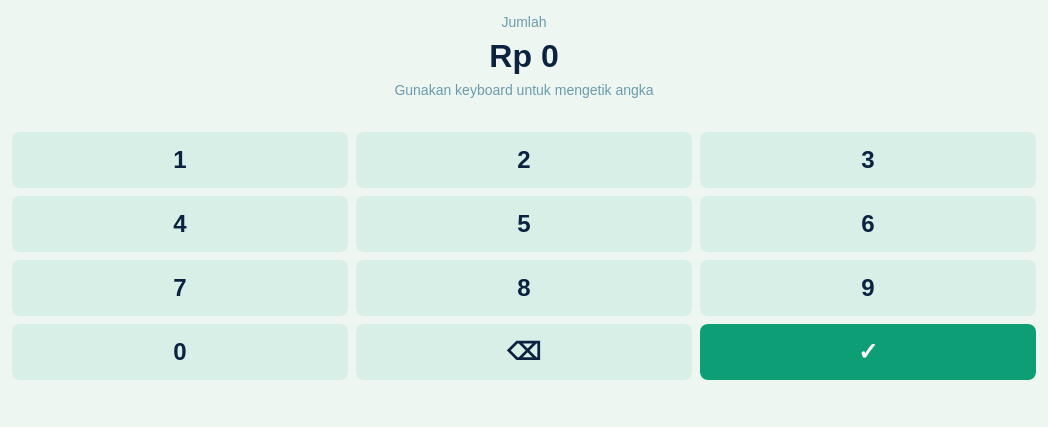
NumpadStep › shows error and prevents confirm when amount is zero
This screenshot has width=1048, height=427.
Click the button named "Konfirmasi jumlah".
click(868, 352)  # box [700,324,1036,380]
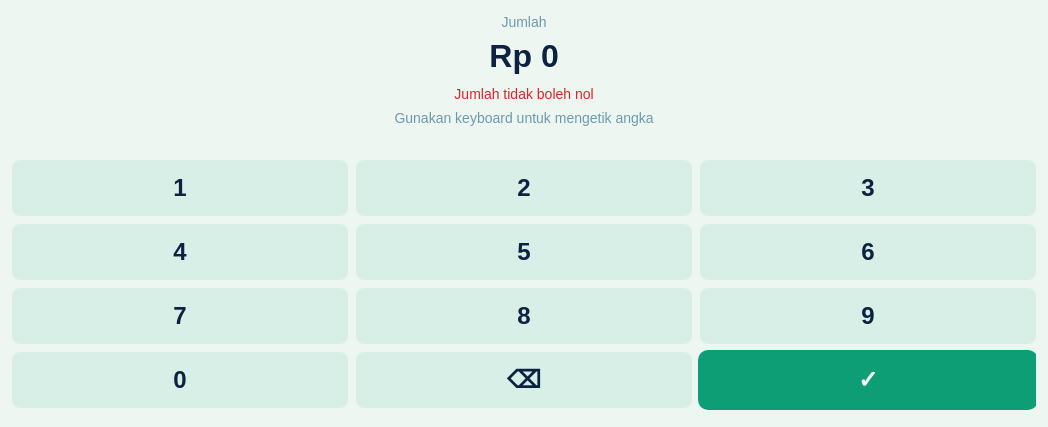
Result: the message reads "Jumlah tidak boleh nol" at [454,86,594,102]
